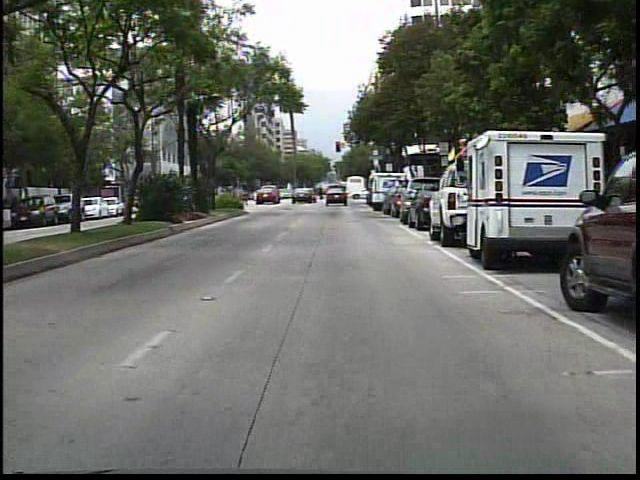person: (299, 182, 315, 206), (318, 184, 326, 203)
